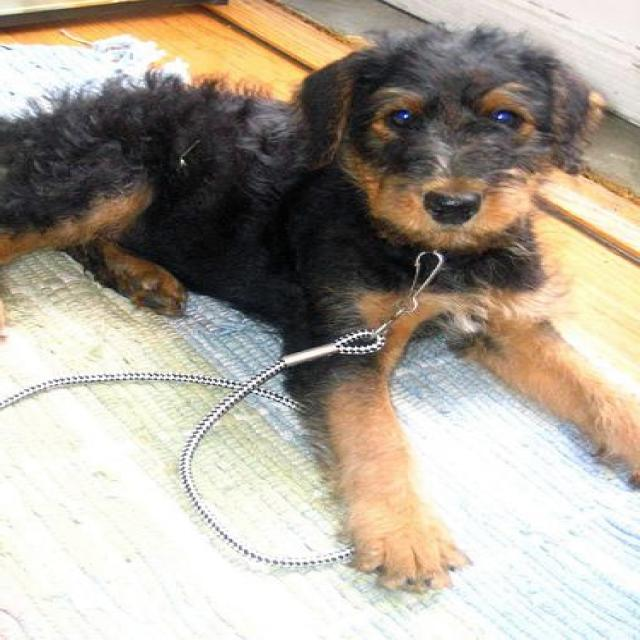airedale: (3, 21, 640, 592)
